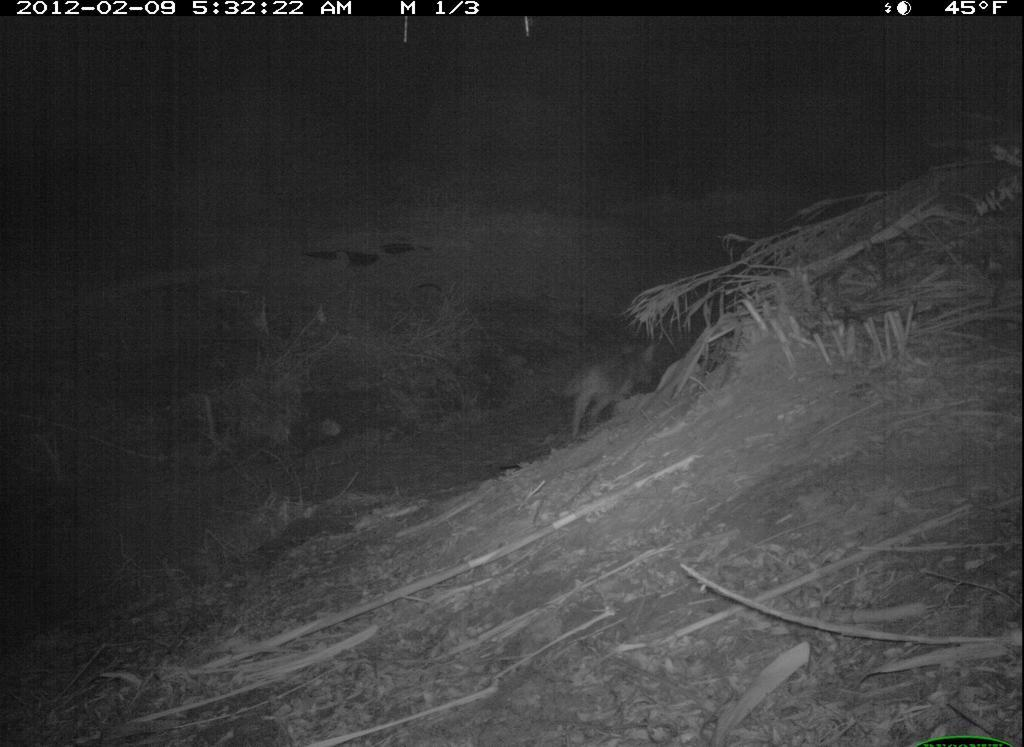coyote: (554, 321, 675, 440)
